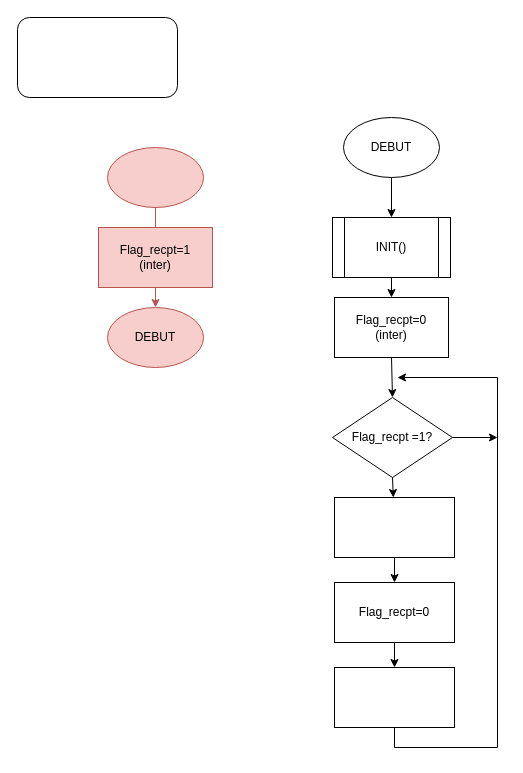
This 523x773 diagram has some shape labels left out. Here are the shapes that lost their labels. From the top down, the centre of each, then its label:
At [97,57]: "SLAVE Barrage".
At [155,177]: "Inter_recpt".
At [394,527]: "Reception Trame".
At [394,697]: "Envoie_Trame()".
